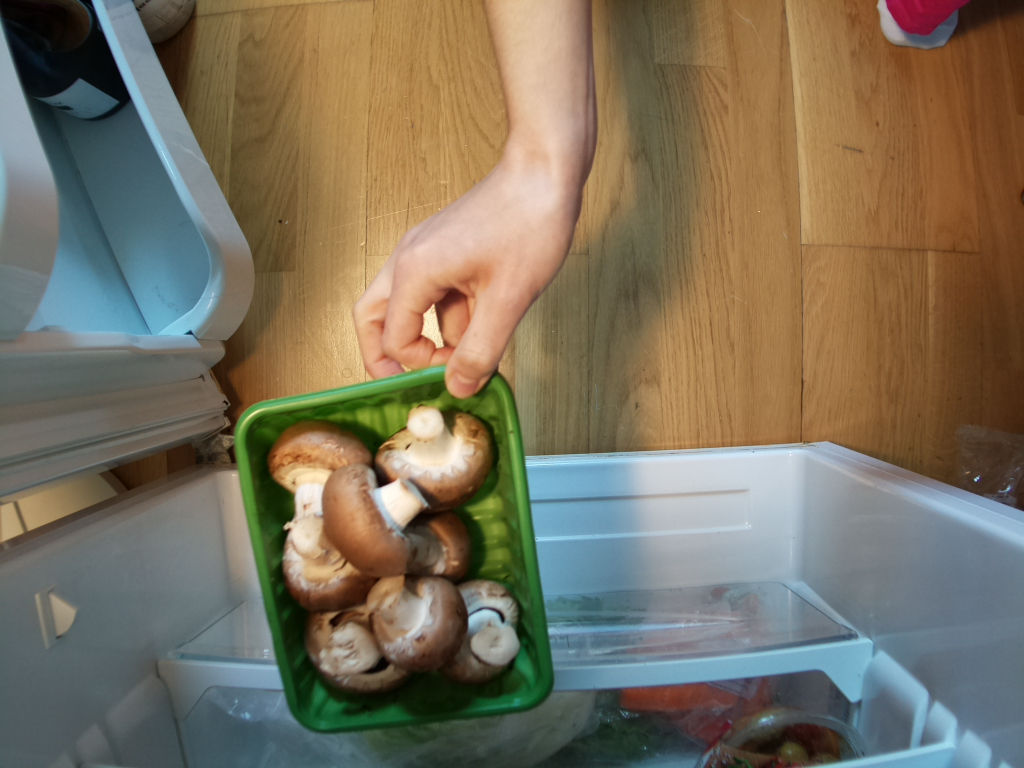mushrooms: (229, 356, 557, 732)
